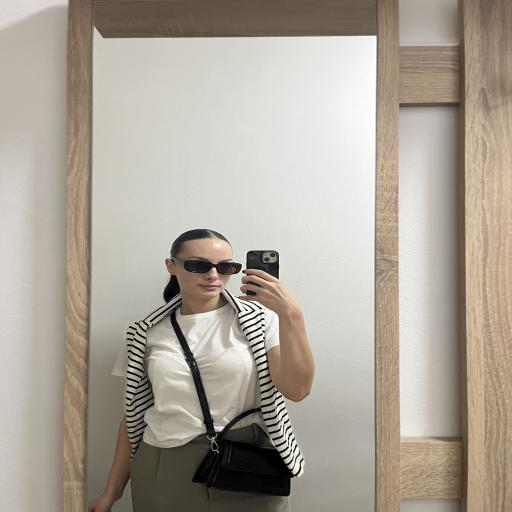marija: (178, 234, 236, 298)
